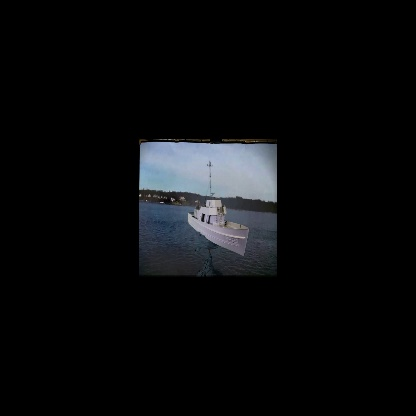YP689: (187, 162, 249, 255)
